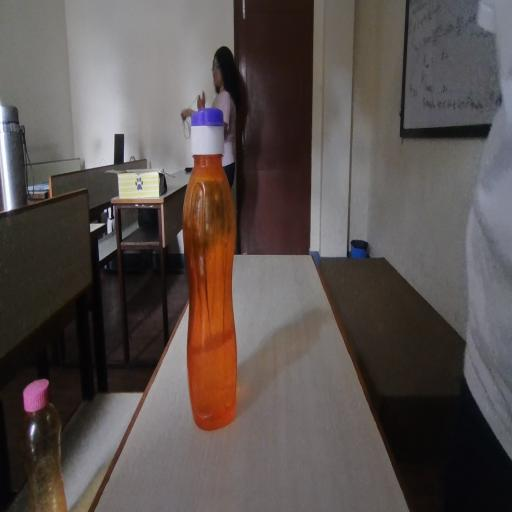Bottle: (183, 103, 259, 398), (7, 368, 87, 508)
